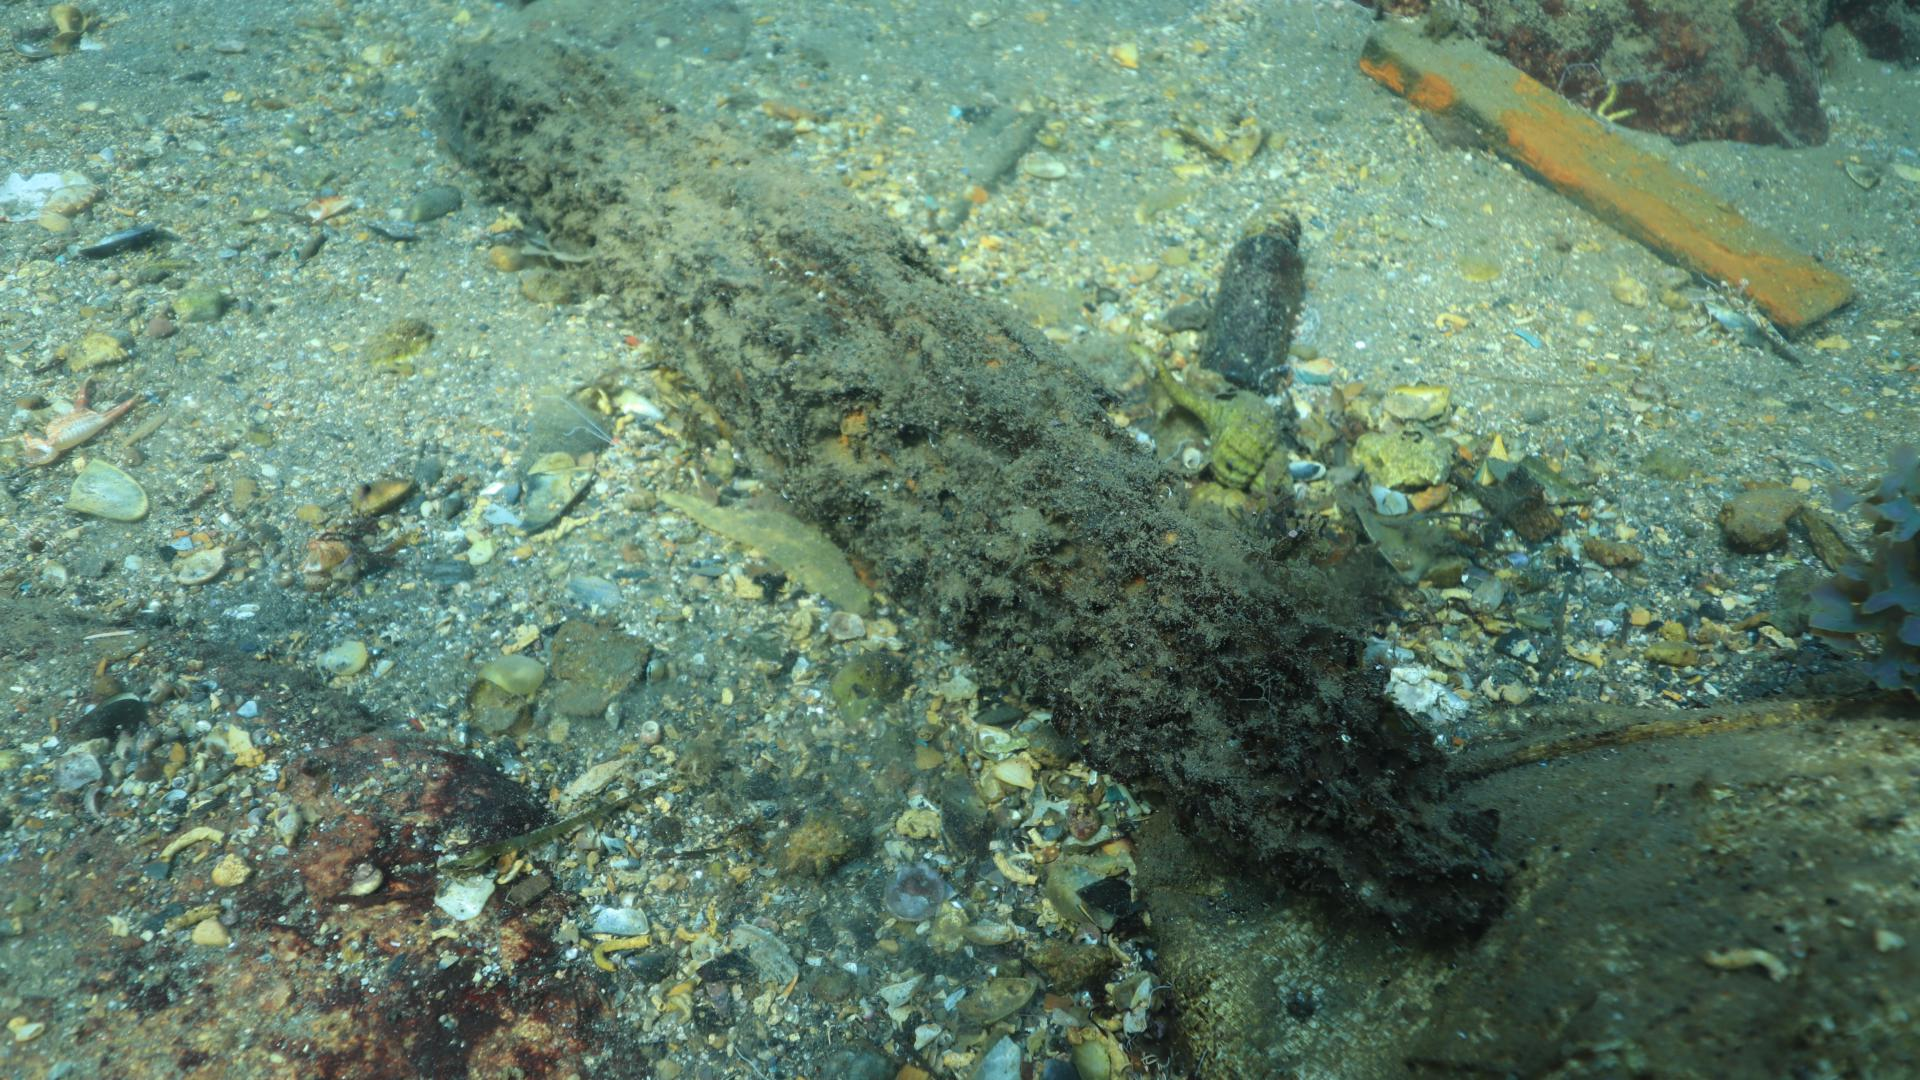wood: (429, 34, 1511, 948), (1360, 17, 1859, 334)
